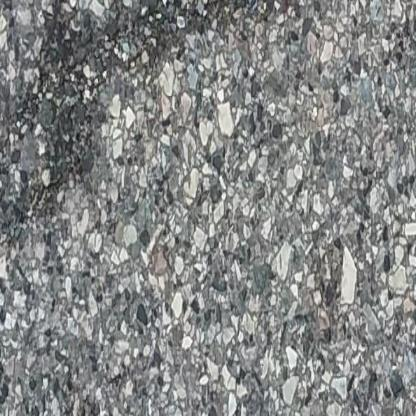Cracks: (0, 0, 306, 258)
